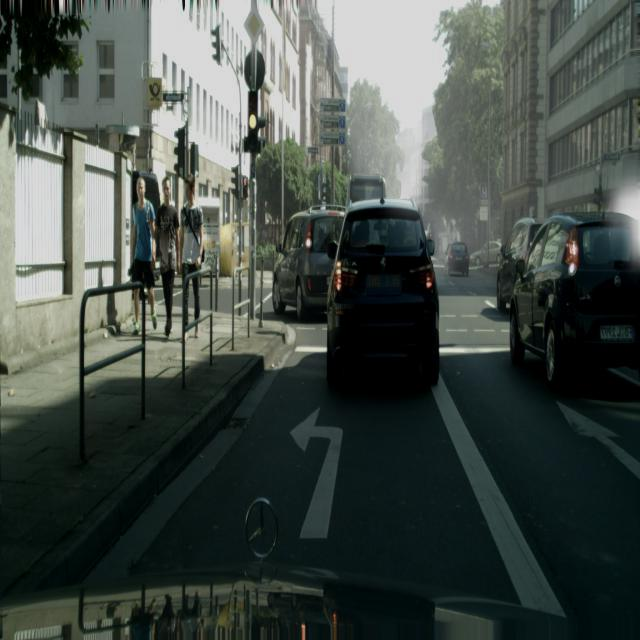person: (129, 175, 159, 333), (154, 176, 179, 338), (180, 178, 205, 340)
truck: (509, 211, 640, 390), (326, 195, 440, 390), (271, 206, 344, 321), (496, 217, 543, 312), (470, 239, 502, 268), (444, 241, 469, 278)
